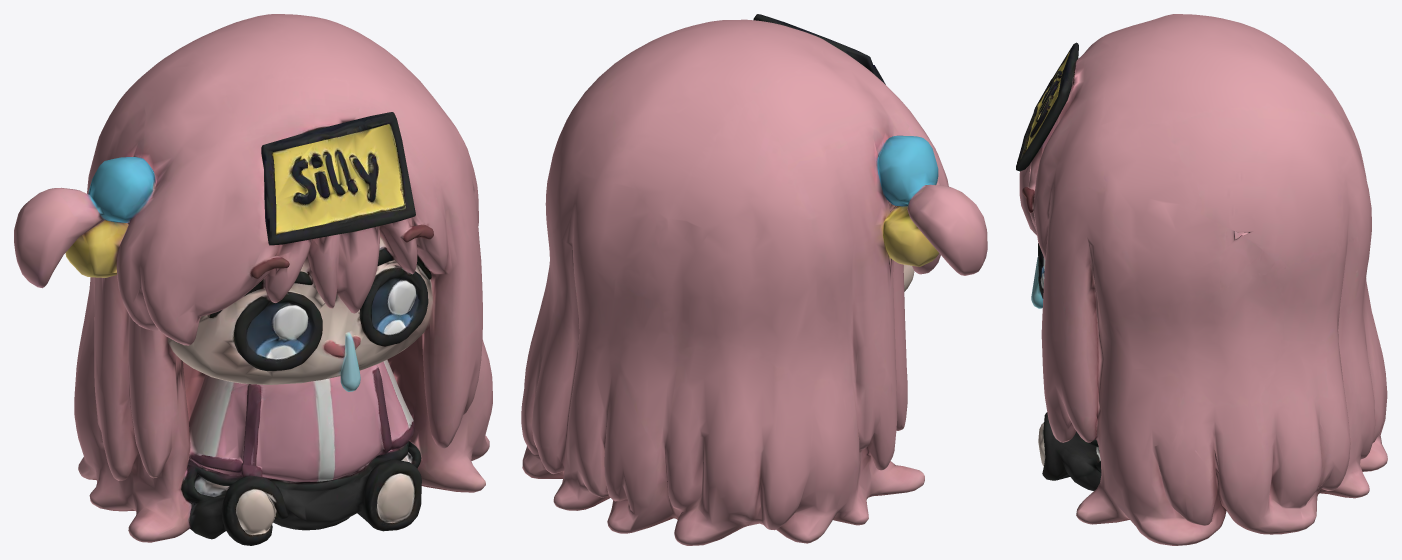
File: chibi-trick-or-treater.glb
3 renders of one model, left to right at view 1: azimuth 30°, elevation 25°; view 2: azimuth 150°, elevation 25°; view 3: azimuth 270°, elevation 25°, orthographic. The views are drawn at different scales.
Parts seen in each view (by area): view 1: tripo_node_6d7b5583-7eef-44ac-a206-7a314e85c64e; view 2: tripo_node_6d7b5583-7eef-44ac-a206-7a314e85c64e; view 3: tripo_node_6d7b5583-7eef-44ac-a206-7a314e85c64e.
Part boxes in pixels (x1=…): tripo_node_6d7b5583-7eef-44ac-a206-7a314e85c64e: x1=14, y1=14, x2=492, y2=545; tripo_node_6d7b5583-7eef-44ac-a206-7a314e85c64e: x1=521, y1=14, x2=987, y2=545; tripo_node_6d7b5583-7eef-44ac-a206-7a314e85c64e: x1=1016, y1=14, x2=1387, y2=545.
Bounding box in the file's own units: 0.9788 × 0.9325 × 0.7362.
Materials: 1 (1 with a texture image).
